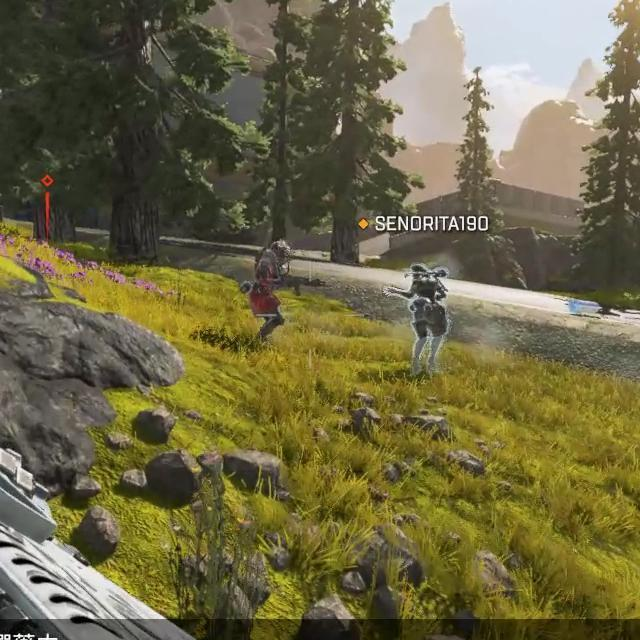avatar: (406, 263, 451, 382), (247, 238, 294, 346)
